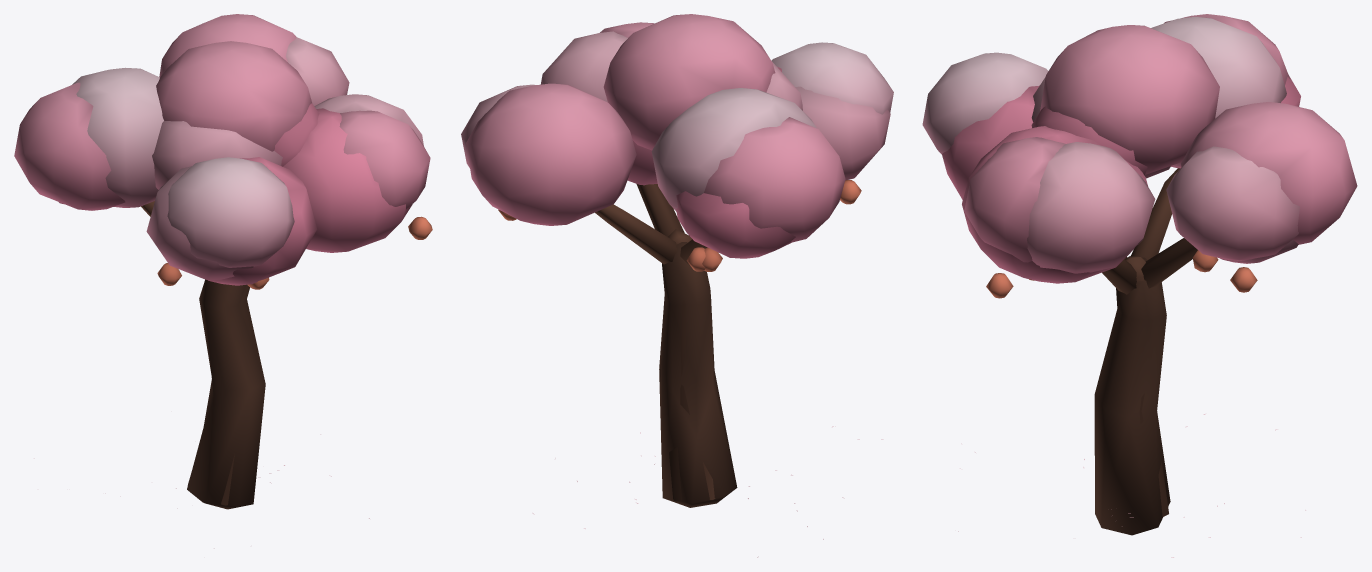
File: peach.glb
The picture shows the model from 3 angles, left to right: view 1: azimuth 30°, elevation 25°; view 2: azimuth 150°, elevation 25°; view 3: azimuth 270°, elevation 25°; orthographic projection. The views are drawn at different scales.
Parts seen in each view (by area): view 1: peach; view 2: peach; view 3: peach.
Part boxes in pixels (x1=…): peach: x1=14, y1=14, x2=432, y2=548; peach: x1=461, y1=14, x2=893, y2=557; peach: x1=922, y1=14, x2=1357, y2=557.
Size of the model in its own units: 2.6 by 3.4 by 2.7.
